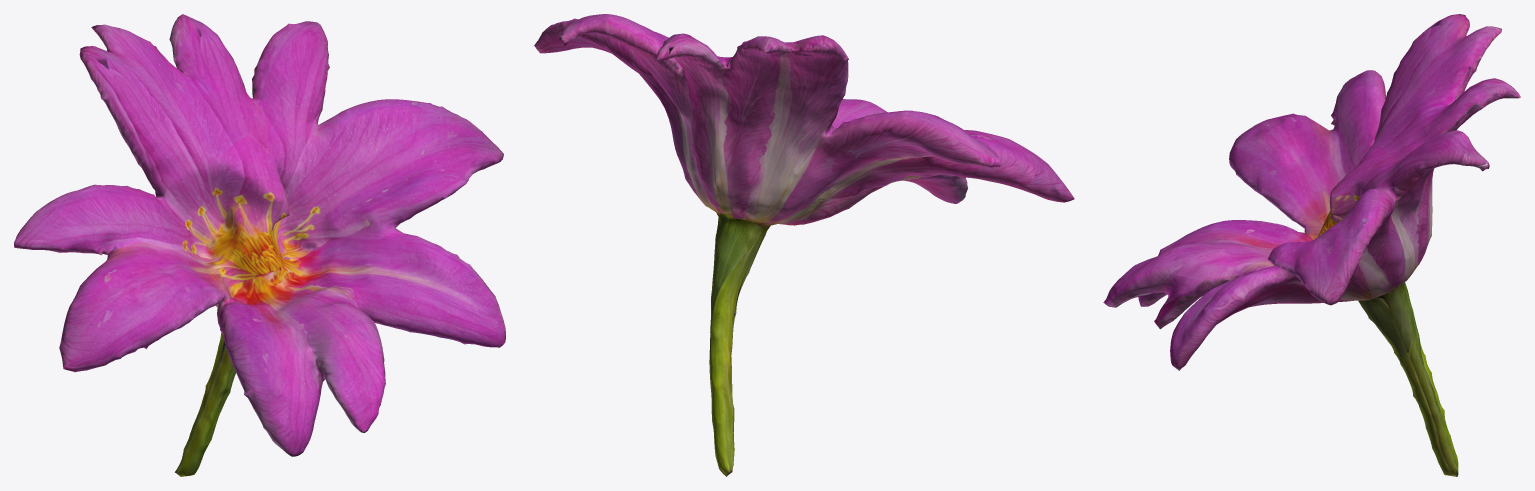
File: pinkflower.glb
The picture shows the model from 3 angles, left to right: view 1: azimuth 30°, elevation 25°; view 2: azimuth 150°, elevation 25°; view 3: azimuth 270°, elevation 25°; orthographic projection. The views are drawn at different scales.
Bounding box in the file's own units: 1.2 × 1.08 × 0.9652.
Materials: 1 (1 with a texture image).
